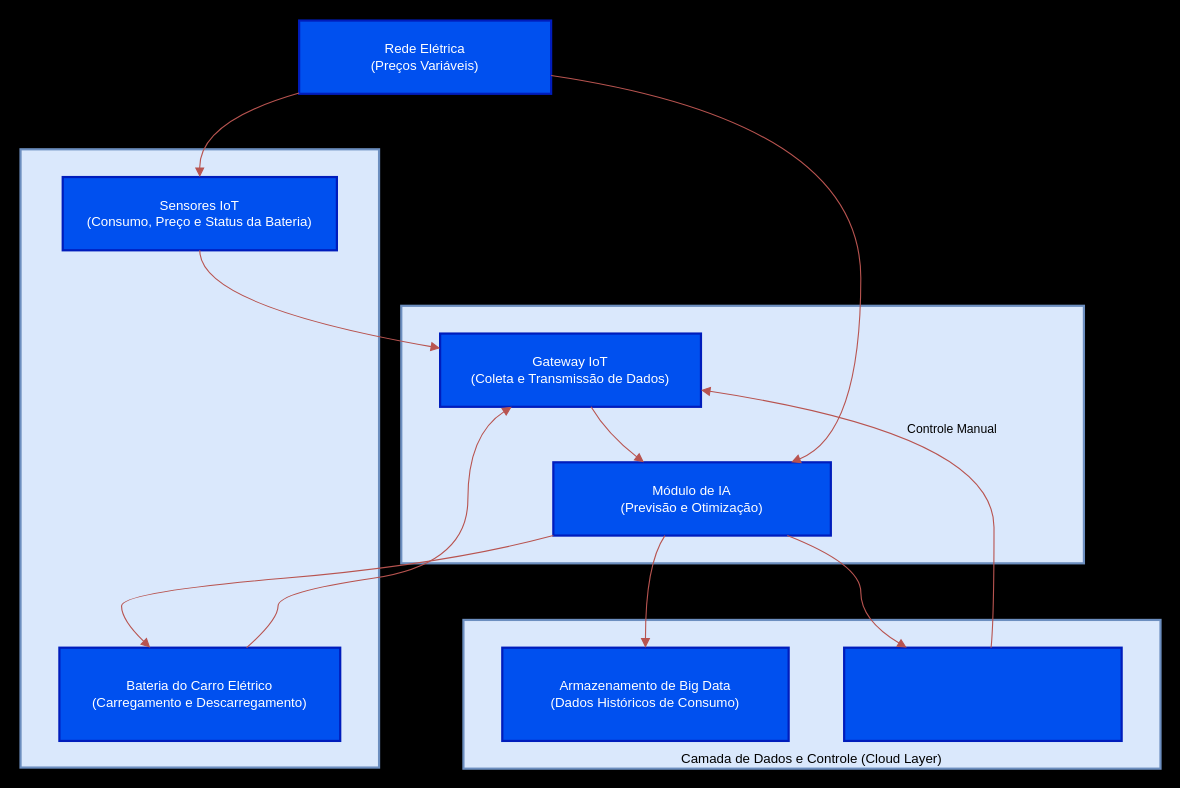
Image size: 1180x788. Some labels were removed from this diagram. Each missing label, with the box of its shape:
Camada de Entrada (Edge Layer): (19, 148, 380, 768)
Camada de Processamento (Fog Layer): (400, 304, 1084, 564)
Interface de Controle do Usuário (Agendamento e Visualização): (842, 646, 1122, 741)
